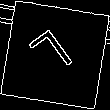L_SE: (28, 25, 82, 85)
